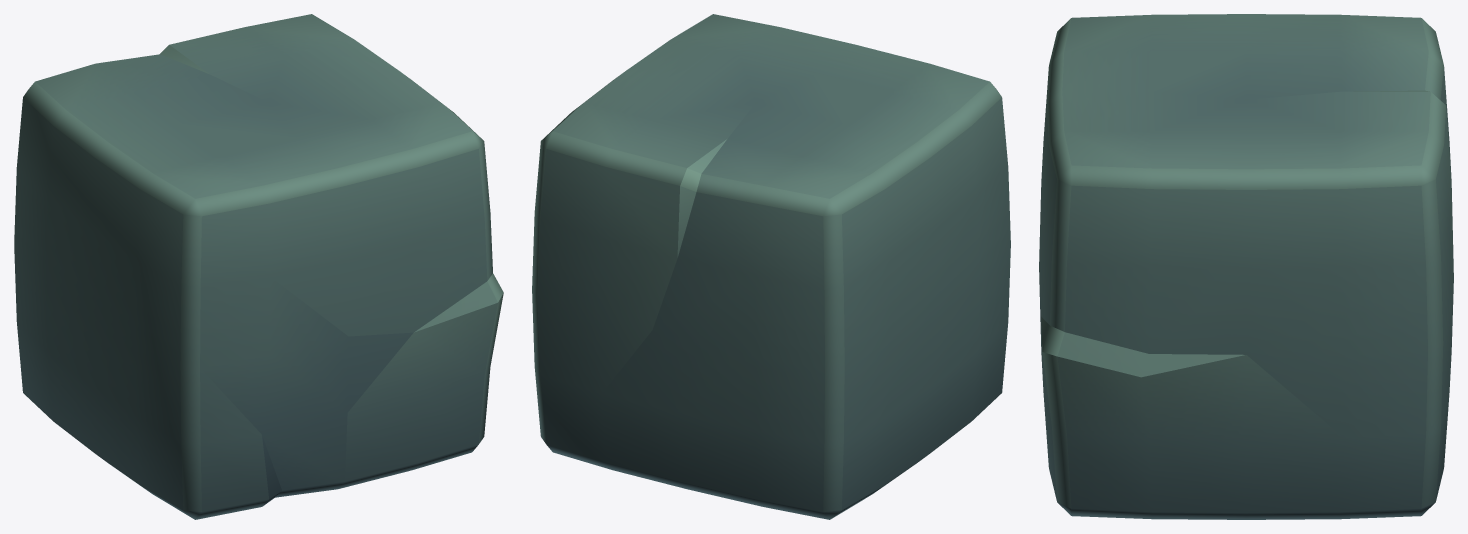
The model's file is cube_07_shade_2_LOD_setup.fbx.
3 renders of one model, left to right at view 1: azimuth 30°, elevation 25°; view 2: azimuth 150°, elevation 25°; view 3: azimuth 270°, elevation 25°, orthographic. The views are drawn at different scales.
Visible parts, largest first — view 1: cube_07_shade_2_LOD0; view 2: cube_07_shade_2_LOD0; view 3: cube_07_shade_2_LOD0.
Boxes of the visible parts, bbox=[...] form: cube_07_shade_2_LOD0: bbox=[14, 14, 503, 519]; cube_07_shade_2_LOD0: bbox=[532, 14, 1010, 519]; cube_07_shade_2_LOD0: bbox=[1039, 14, 1453, 519].
Size of what is drawn, in the model's own units: 228 by 208 by 223.
